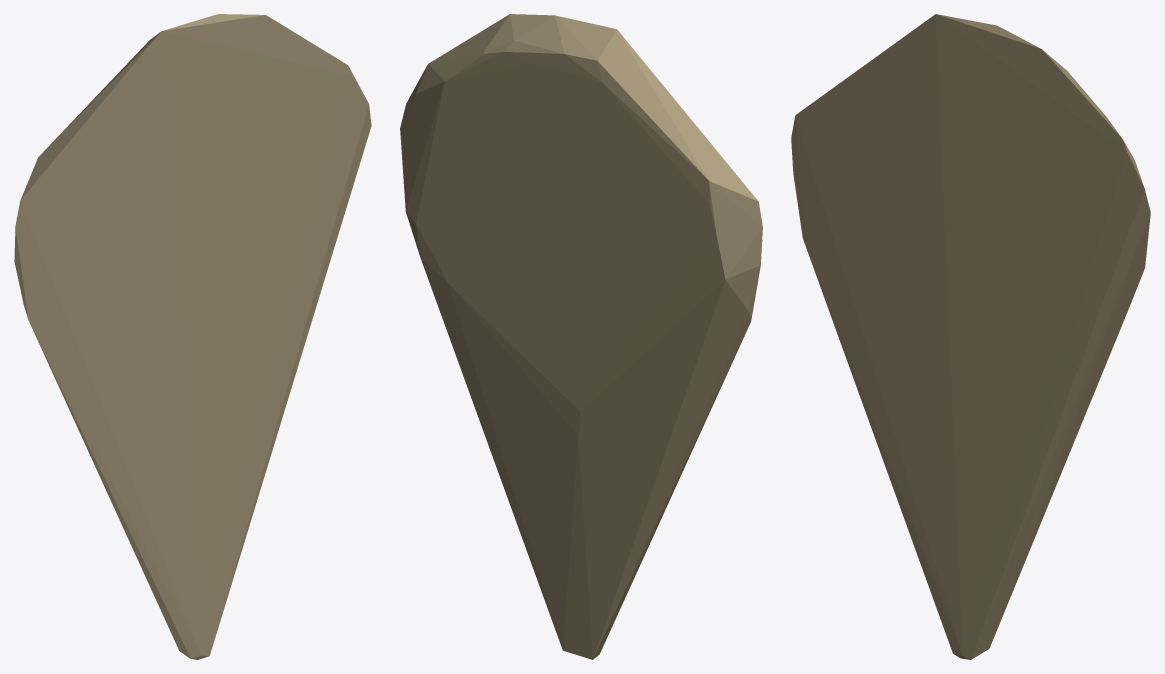
Rendered from kitchenware_pan_k01.glb.
3 renders of one model, left to right at view 1: azimuth 30°, elevation 25°; view 2: azimuth 150°, elevation 25°; view 3: azimuth 330°, elevation 25°, orthographic.
Parts seen in each view (by area): view 1: geometry_0; view 2: geometry_0; view 3: geometry_0.
Part boxes in pixels (left/top/right/bottom): geometry_0: left=14, top=14, right=371, bottom=659; geometry_0: left=400, top=14, right=762, bottom=659; geometry_0: left=791, top=14, right=1150, bottom=659.
Size of the model in its own units: 0.2814 by 0.476 by 0.0319.
